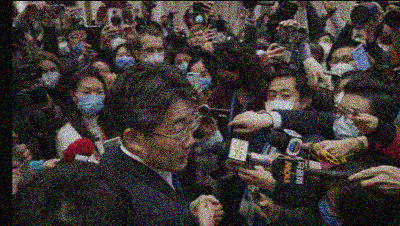mask_weared_incorrect: (70, 28, 88, 51)
with_mask: (331, 102, 366, 141), (264, 85, 301, 120), (318, 182, 345, 224), (75, 84, 106, 117), (37, 63, 61, 90), (329, 53, 356, 76), (190, 68, 213, 92), (218, 73, 245, 92), (140, 44, 164, 63), (315, 35, 332, 58), (115, 49, 136, 67), (173, 55, 193, 73), (332, 85, 347, 106), (57, 36, 72, 55), (110, 33, 128, 48), (354, 31, 367, 46), (194, 13, 204, 23), (160, 17, 169, 26), (240, 9, 246, 16)
without_mask: (141, 105, 197, 171), (90, 64, 112, 84), (191, 30, 205, 46)
